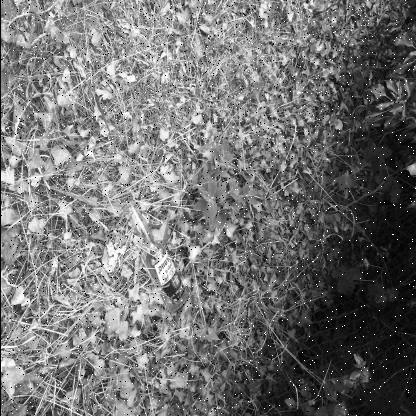glass: (122, 199, 188, 314)
